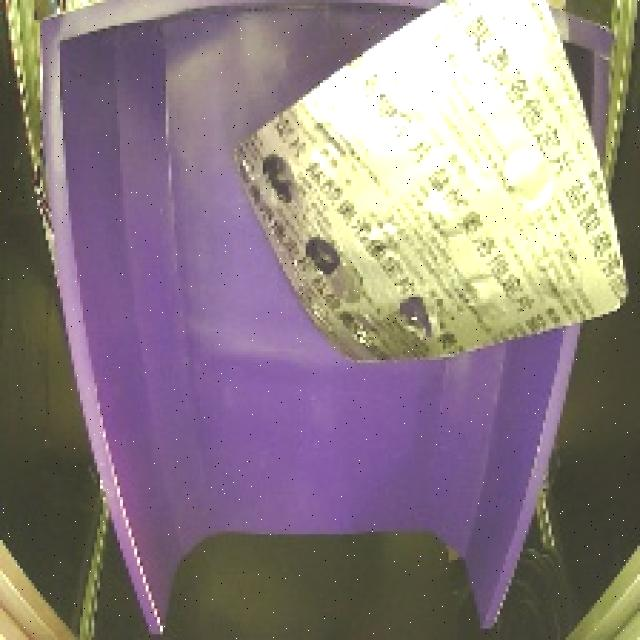med_plate: (227, 0, 640, 376)
